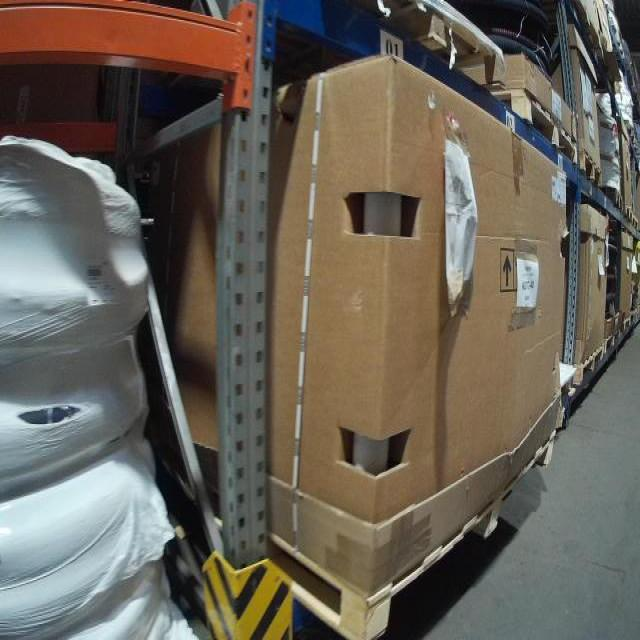pallet: (170, 426, 557, 640), (364, 4, 510, 110), (481, 84, 580, 171), (573, 149, 607, 190), (578, 342, 605, 388), (598, 181, 627, 216), (604, 322, 628, 357), (622, 202, 634, 225), (633, 215, 639, 233)
